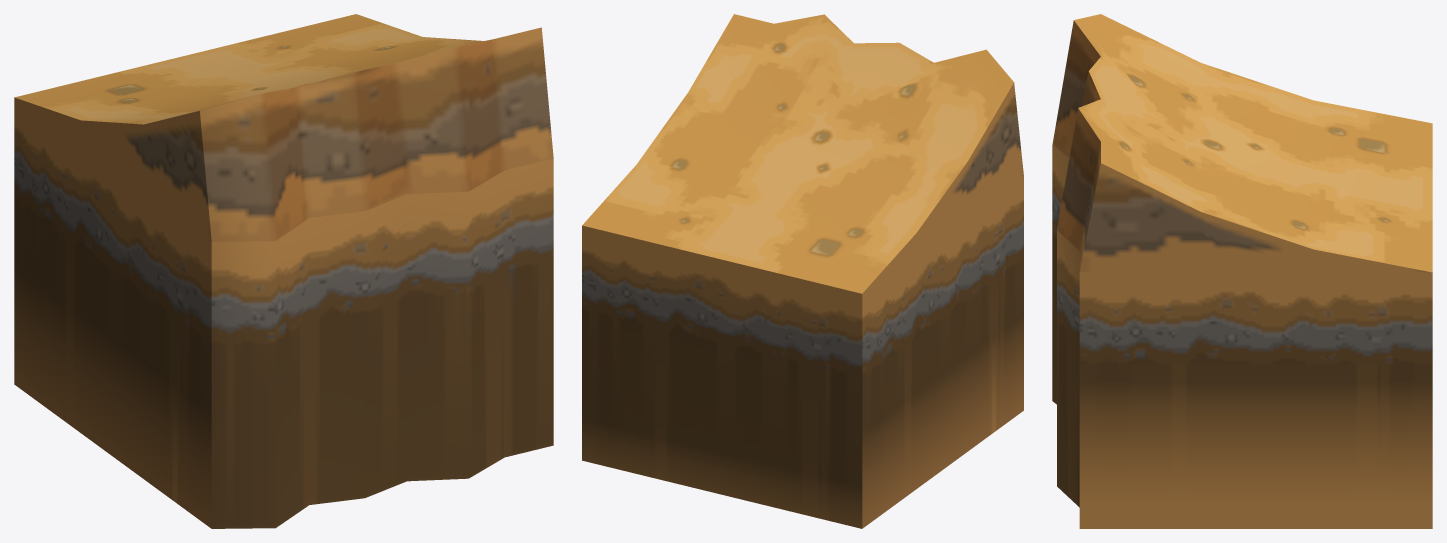
The model's file is Modulo_rampa.FBX.
3 renders of one model, left to right at view 1: azimuth 30°, elevation 25°; view 2: azimuth 150°, elevation 25°; view 3: azimuth 270°, elevation 25°, orthographic. The views are drawn at different scales.
Visible parts, largest first — view 1: Modulo_rampa; view 2: Modulo_rampa; view 3: Modulo_rampa.
Part boxes in pixels (box(x1,y1,x2,y2)): Modulo_rampa: box(14, 14, 553, 528); Modulo_rampa: box(582, 14, 1023, 528); Modulo_rampa: box(1052, 14, 1432, 528).
Bounding box in the file's own units: 100 × 119 × 108.
